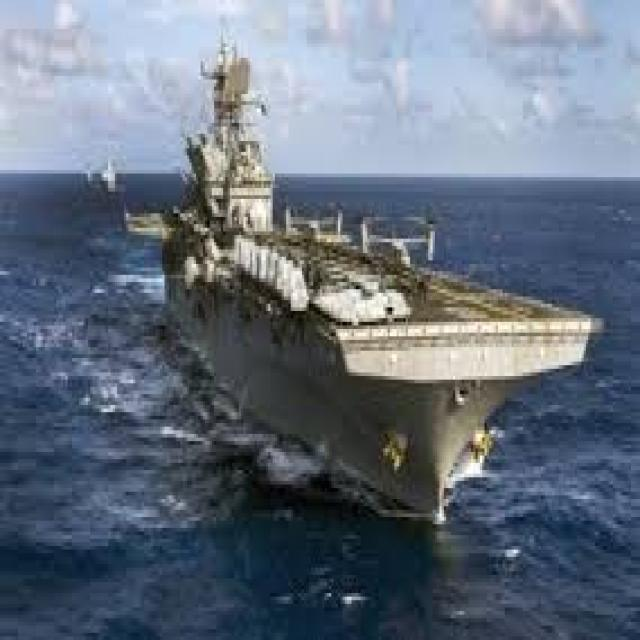navalvessels: (151, 30, 599, 526)
